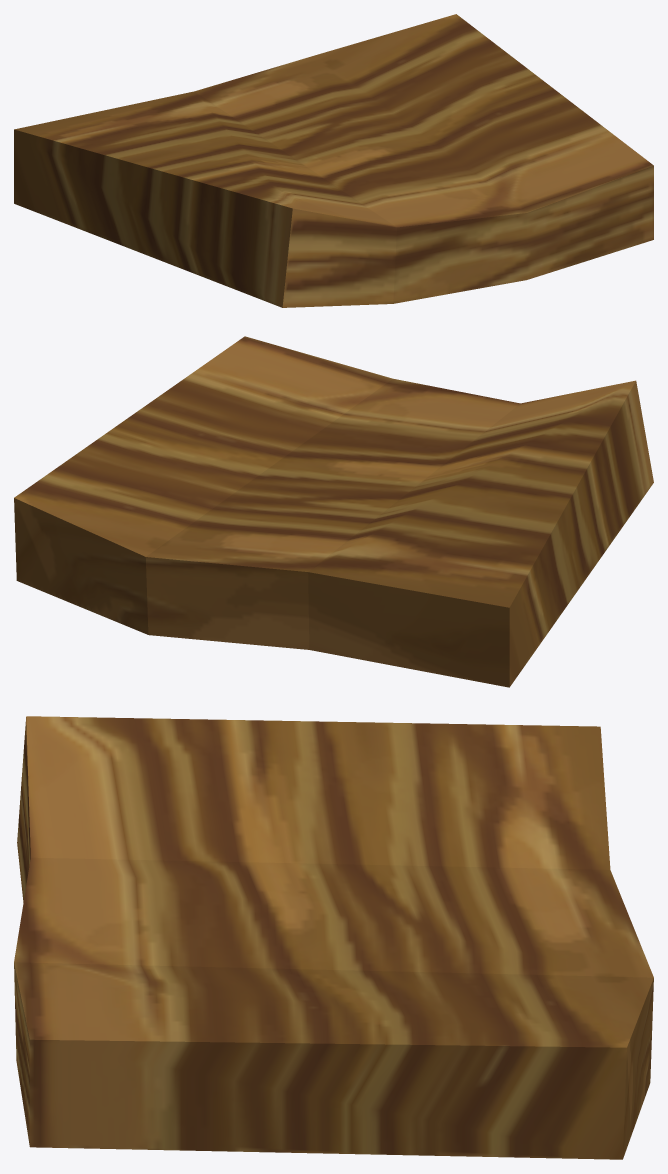
File: plank2_1x1.glb
The picture shows the model from 3 angles, top to bottom: view 1: azimuth 30°, elevation 25°; view 2: azimuth 150°, elevation 25°; view 3: azimuth 270°, elevation 25°; orthographic projection. The views are drawn at different scales.
Parts seen in each view (by area): view 1: PLanks_square_small.001; view 2: PLanks_square_small.001; view 3: PLanks_square_small.001.
Part boxes in pixels (<box>): PLanks_square_small.001: <box>14,14,653,307</box>; PLanks_square_small.001: <box>14,336,653,687</box>; PLanks_square_small.001: <box>14,716,653,1159</box>.
Bounding box in the file's own units: 1.05 × 0.3053 × 0.8923.
1 material, 1 textured.
